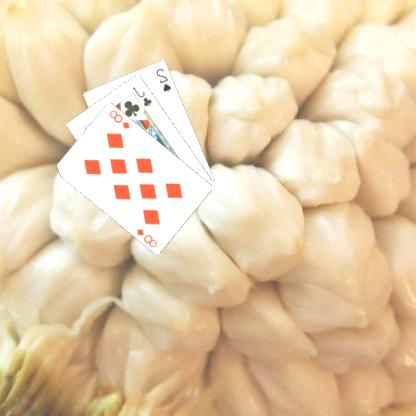2S: (156, 65, 174, 93)
8D: (108, 107, 133, 130), (136, 226, 160, 249)
JC: (132, 83, 156, 108)
